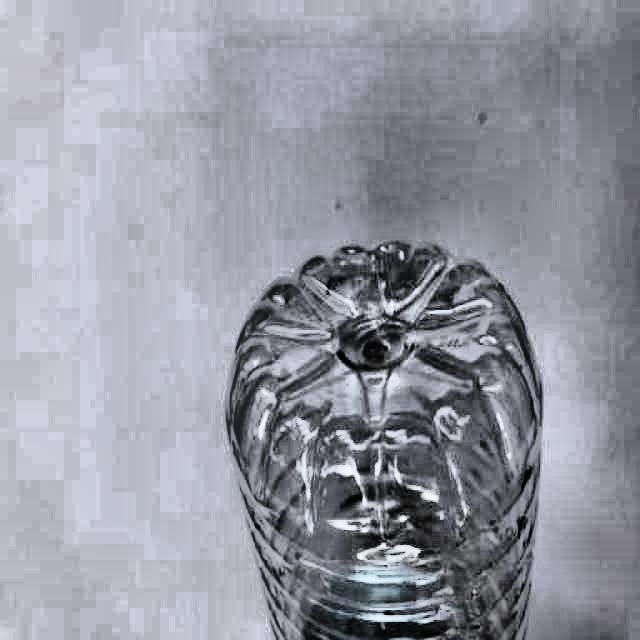plastic: (224, 241, 545, 640)
